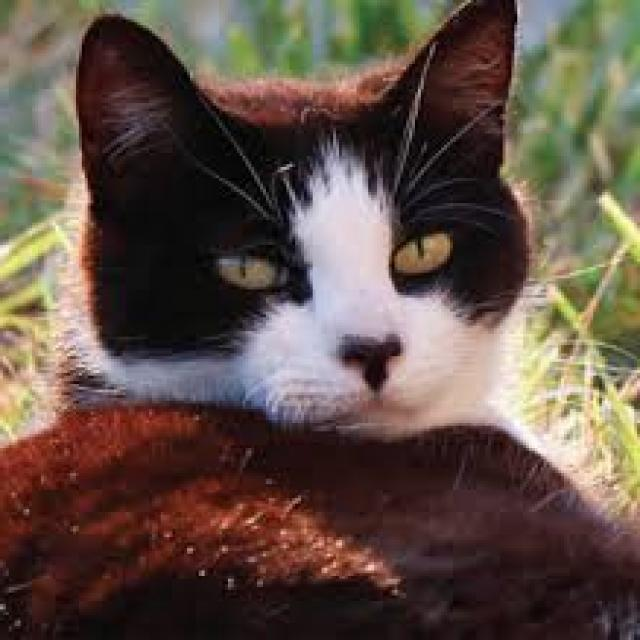cat: (3, 0, 640, 637)
